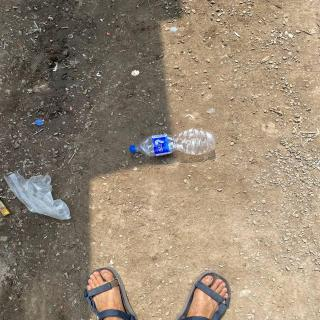Plastic-bottle: (126, 128, 219, 161)
